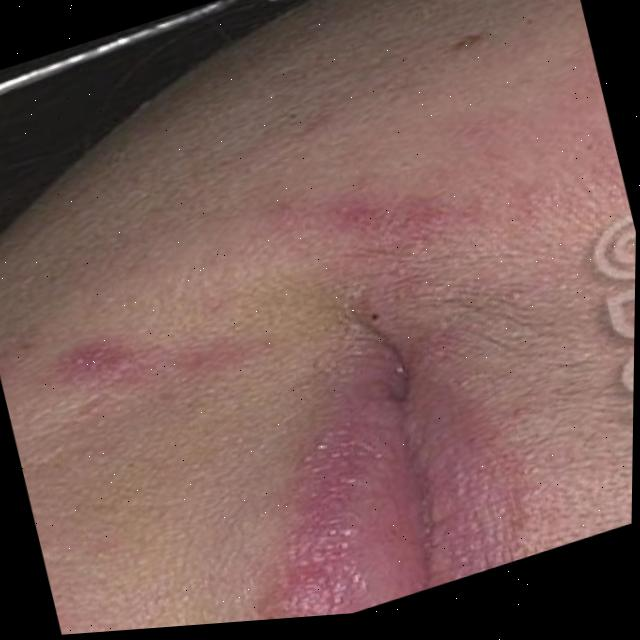Rosacea: (273, 114, 556, 295), (45, 271, 268, 428)
